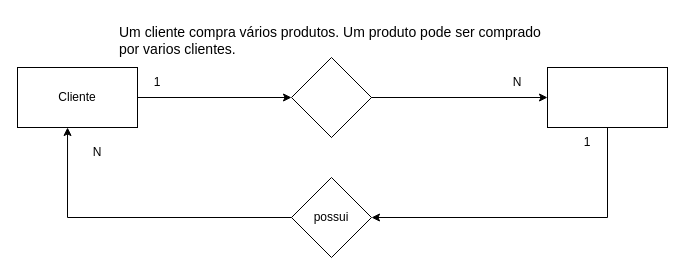
Some shapes in this 685 by 275 pixel diagram are drawn without their labels. The shapes that lost their labels are listed below. From the top down, each one's centre as x and y in pixels, then its label:
the point at 331,97: compra
the point at 607,97: Produtos
